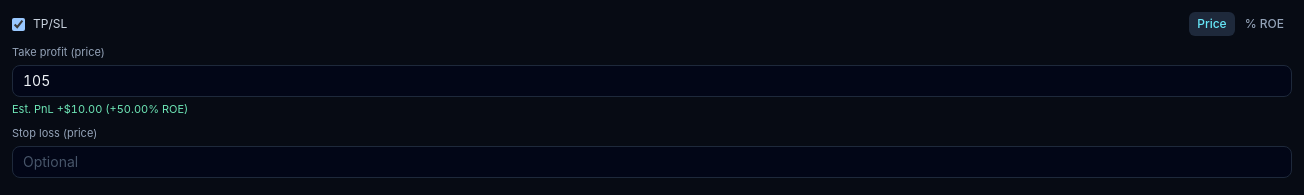
Scenario: switching mode re-expresses the same price (price 105 -> 50% ROE and back)
Check: the number field with id "tpsl-tp" holds "105", box x1=12 y1=64 x2=1292 y2=96
What coordinates should you click on to do the following:
click the tab "% ROE"
I would click on:
 (1264, 24)
Its box is x1=1237 y1=12 x2=1292 y2=36.
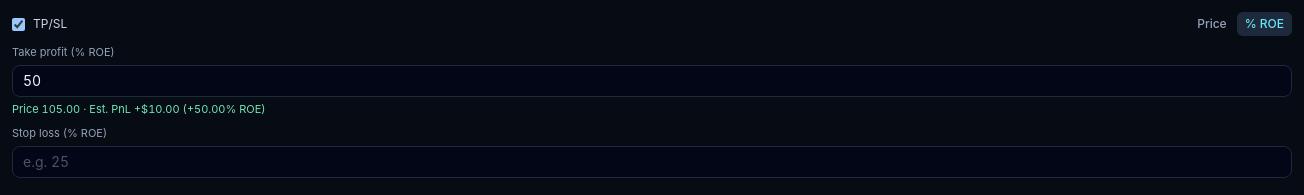
Check: the number field with id "tpsl-tp" holds "50", box x1=12 y1=64 x2=1292 y2=96
What coordinates should you click on to do the following:
click the tab "Price"
I would click on:
 (1212, 24)
Its box is x1=1189 y1=12 x2=1235 y2=36.
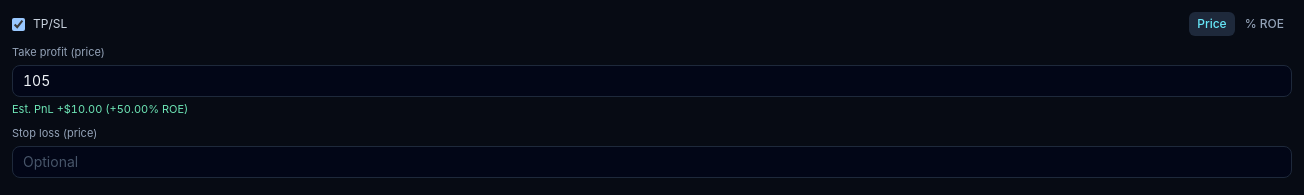
Check: the number field with id "tpsl-tp" holds "105", box x1=12 y1=64 x2=1292 y2=96
